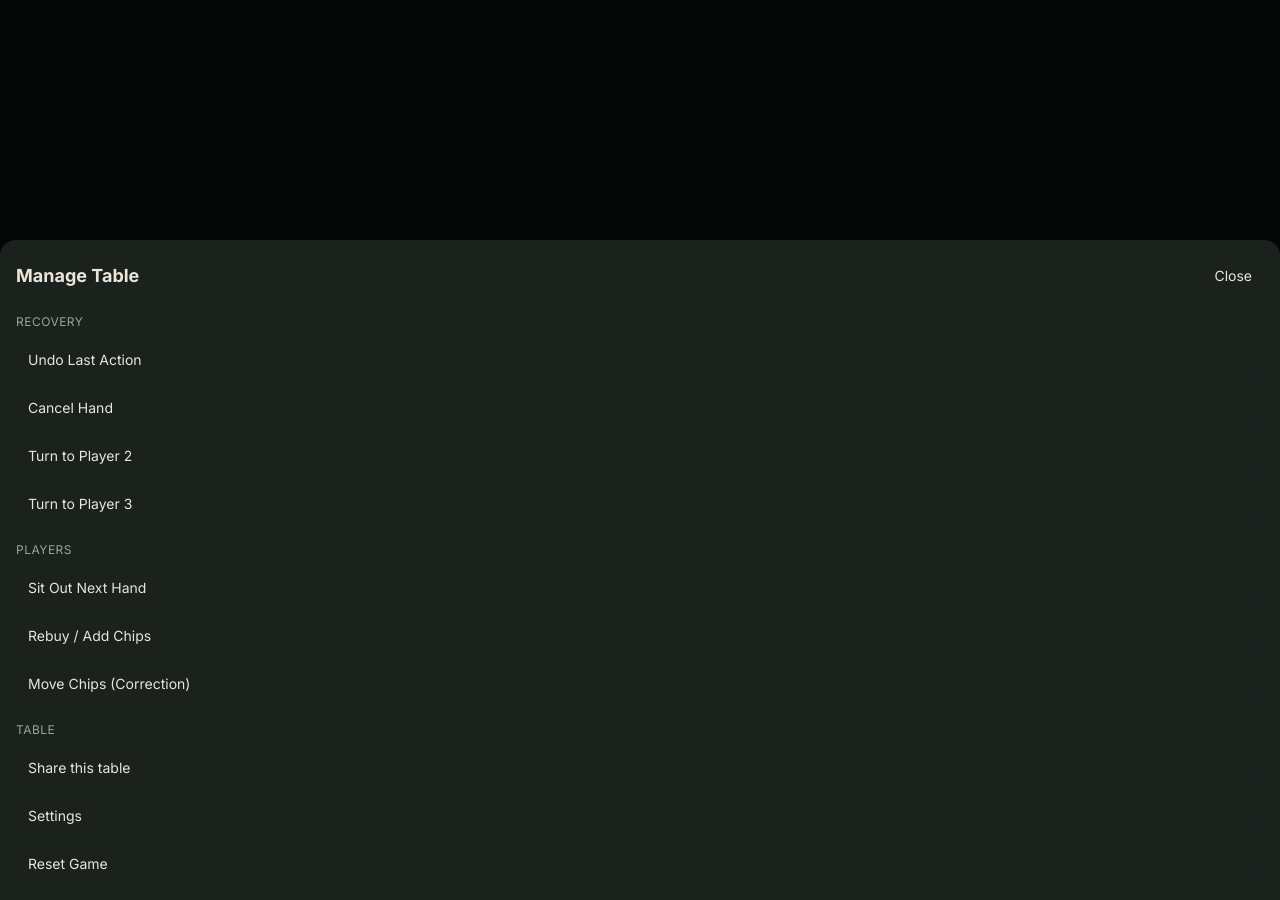
Scenario: undo › says so when there is nothing to undo
Click the button "Undo Last Action" at x=85, y=360, box x1=16 y1=340 x2=1264 y2=380
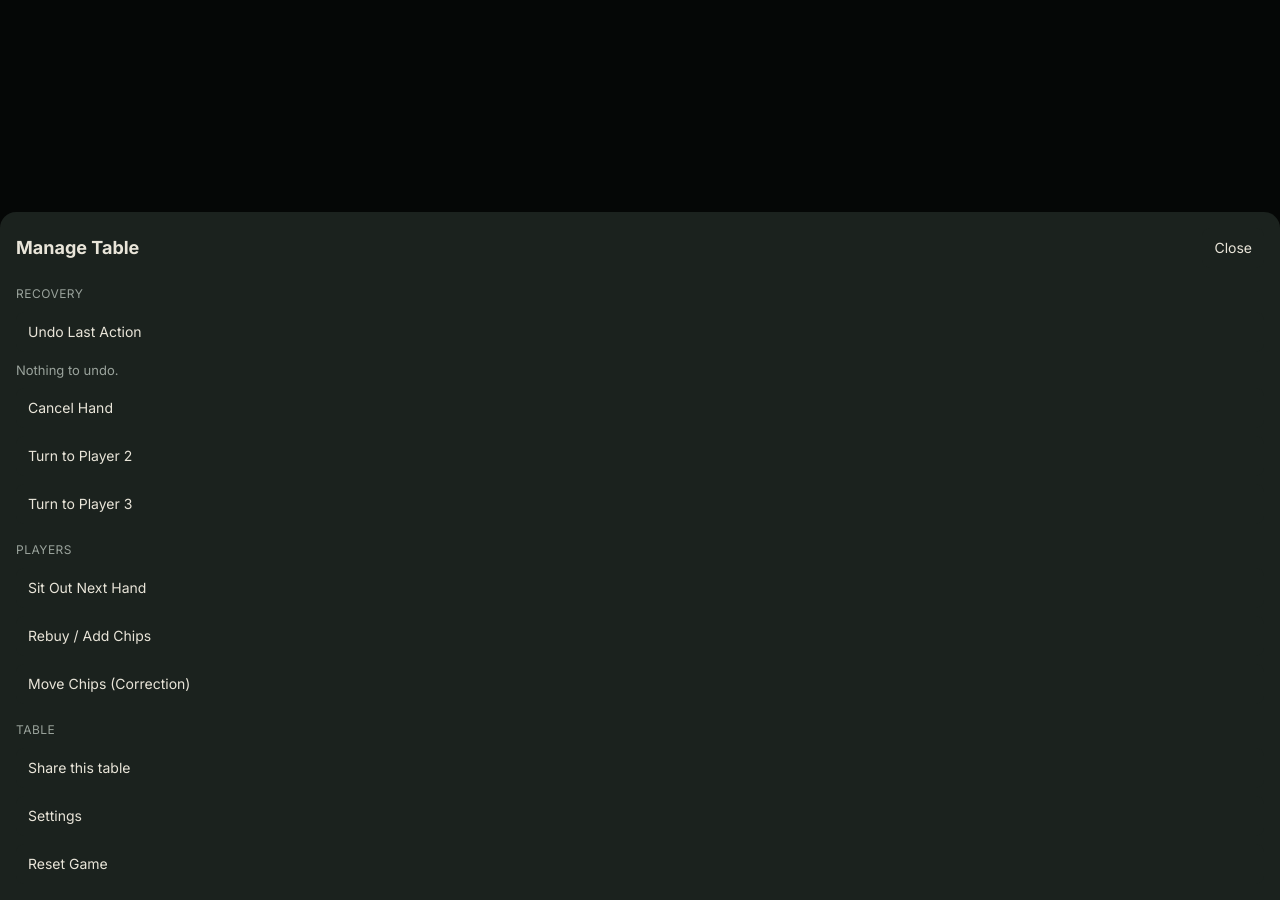
Result: the text "Nothing to undo." is shown at x1=16 y1=362 x2=118 y2=378
